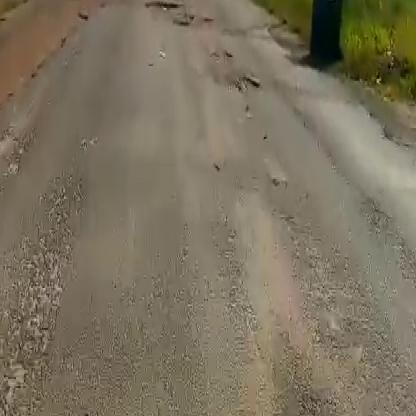pothole: (234, 73, 260, 95), (143, 0, 185, 12)
